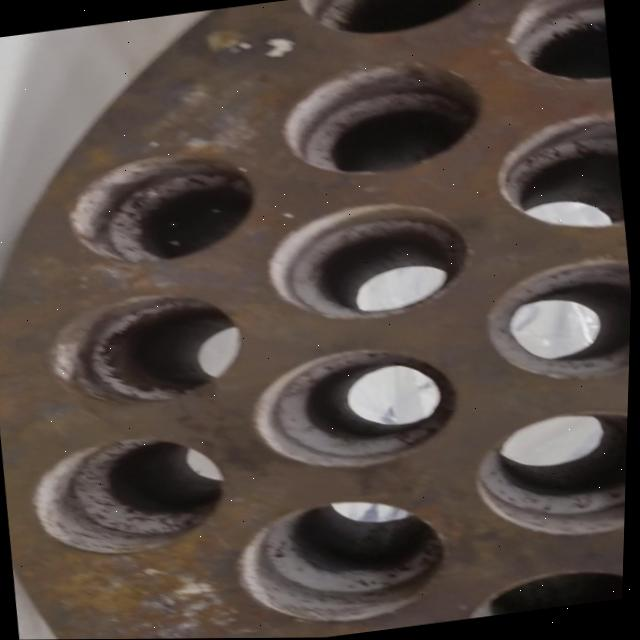Hole: (233, 490, 460, 636), (247, 337, 471, 480), (263, 193, 479, 330), (27, 430, 236, 568), (276, 52, 491, 184), (40, 283, 251, 416), (63, 146, 264, 273), (469, 405, 630, 549), (478, 253, 634, 392), (489, 111, 628, 242), (496, 0, 613, 94), (294, 0, 499, 45)
